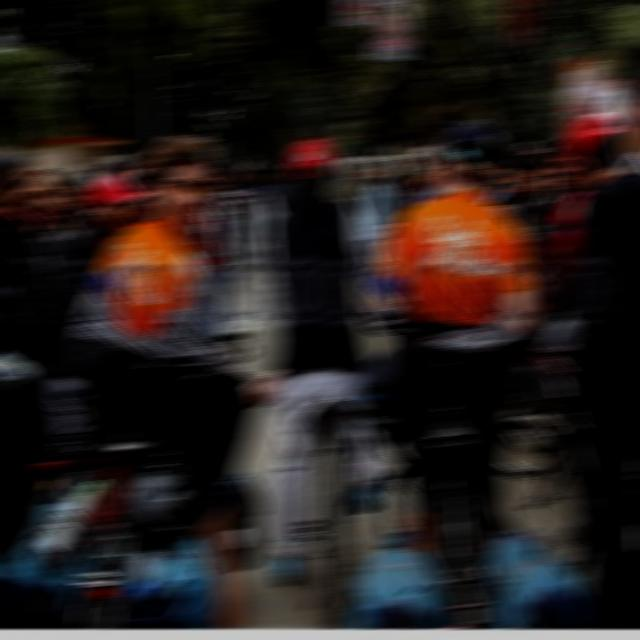Without Helmet: (131, 124, 220, 237), (423, 117, 506, 214), (283, 133, 336, 196)
